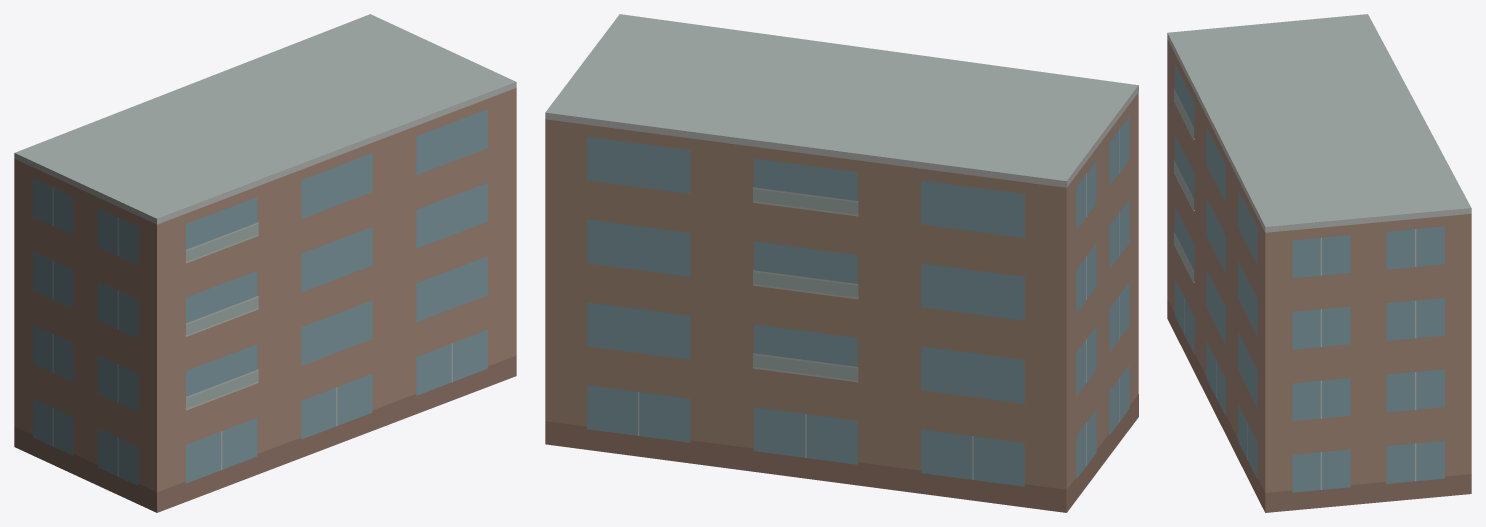
The model's file is survey-upis-32462886.glb.
3 views of the same model, side by side, from view 1: azimuth 30°, elevation 25°; view 2: azimuth 150°, elevation 25°; view 3: azimuth 270°, elevation 25° (orthographic). The views are drawn at different scales.
Visible parts, largest first — view 1: survey-upis-32462886.tmp; view 2: survey-upis-32462886.tmp; view 3: survey-upis-32462886.tmp.
Part boxes in pixels (x1,y1,x2,y2): survey-upis-32462886.tmp: (14,14,516,512); survey-upis-32462886.tmp: (545,14,1138,512); survey-upis-32462886.tmp: (1167,14,1471,512).
Size of the model in its own units: 19.51 by 12.2 by 11.78.
